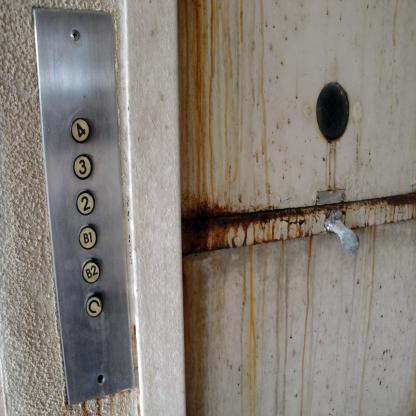2: (74, 189, 95, 216)
3: (72, 154, 92, 179)
4: (69, 116, 92, 144)
B1: (78, 224, 98, 250)
B2: (82, 258, 100, 284)
C: (84, 293, 103, 317)
